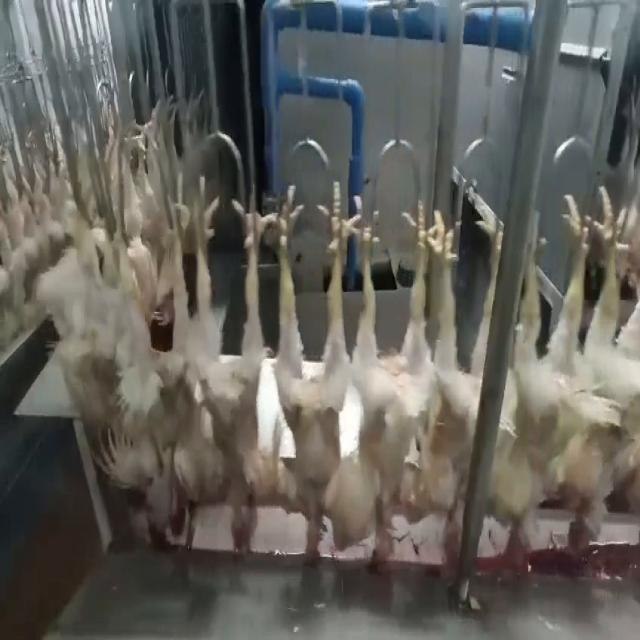chicken: (333, 189, 437, 576), (493, 188, 588, 582), (184, 179, 275, 562), (411, 209, 506, 554), (268, 177, 347, 574), (565, 181, 639, 563), (115, 195, 188, 550)
